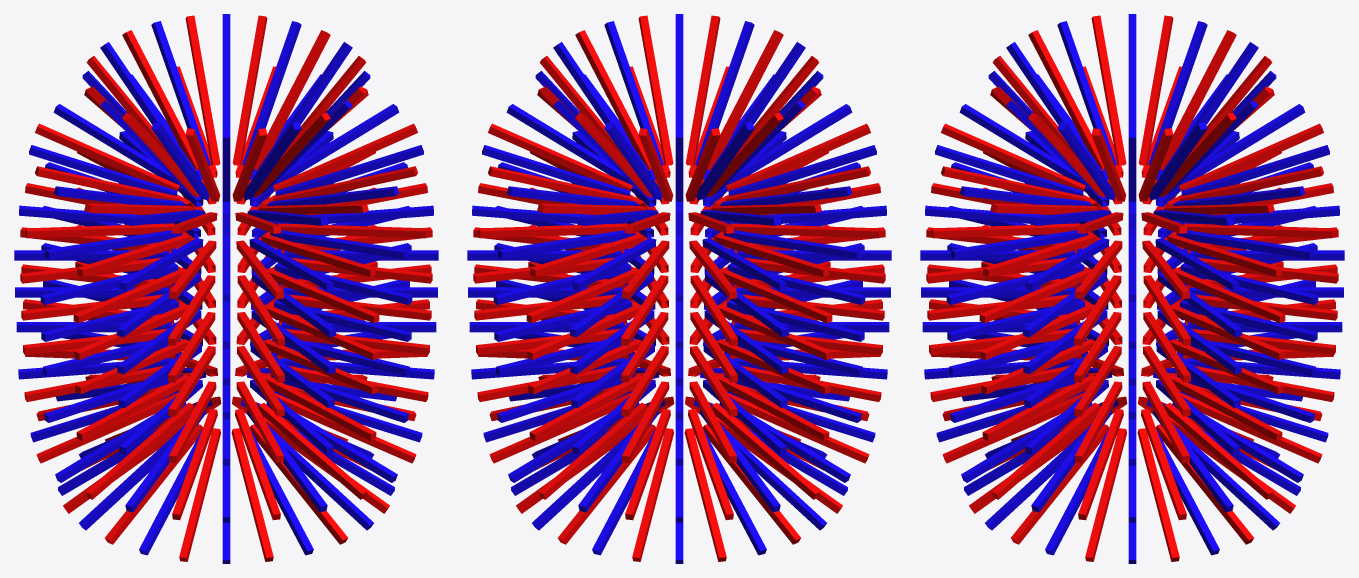
Rendered from newimprovedredandbluecompositemesh.fbx.
3 views of the same model, side by side, from view 1: azimuth 30°, elevation 25°; view 2: azimuth 150°, elevation 25°; view 3: azimuth 270°, elevation 25° (orthographic).
Parts seen in each view (by area): view 1: red, blue; view 2: red, blue; view 3: red, blue.
Part boxes in pixels (x1=…): red: x1=20, y1=15, x2=432, y2=561; blue: x1=14, y1=14, x2=438, y2=563; red: x1=473, y1=15, x2=885, y2=561; blue: x1=467, y1=14, x2=891, y2=563; red: x1=926, y1=15, x2=1338, y2=561; blue: x1=920, y1=14, x2=1344, y2=563.
Bounding box in the file's own units: 872 × 957 × 872.
